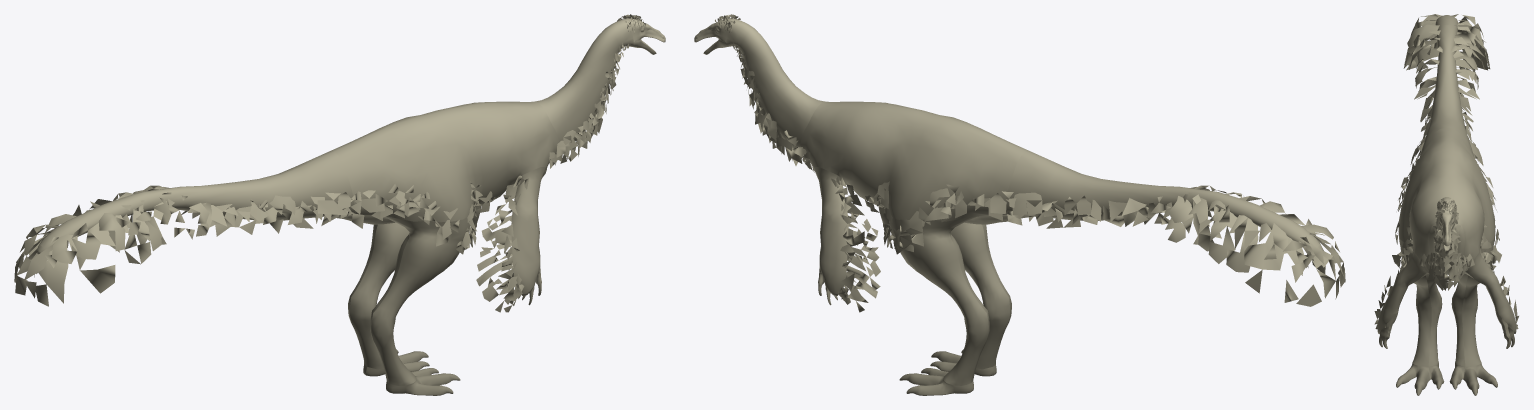
File: ornithomimus.glb
3 views of the same model, side by side, from view 1: azimuth 30°, elevation 25°; view 2: azimuth 150°, elevation 25°; view 3: azimuth 270°, elevation 25° (orthographic). The views are drawn at different scales.
Bounding box in the file's own units: 7.96 × 3.63 × 1.72.
